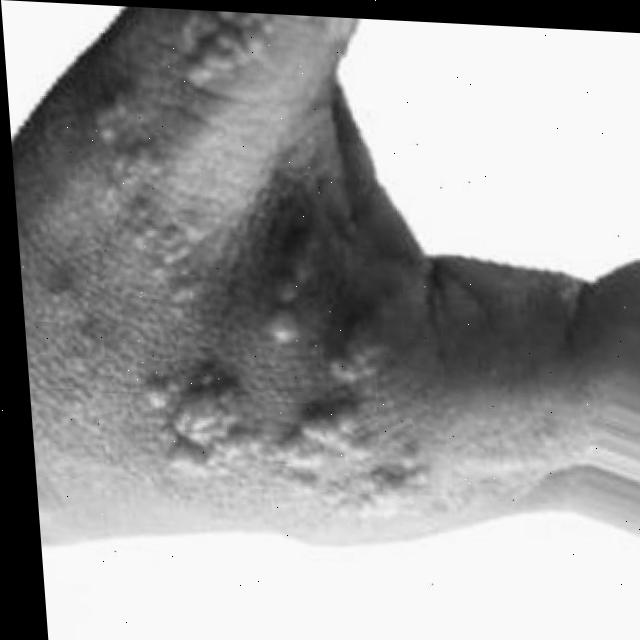Shingles: (56, 3, 441, 525)
